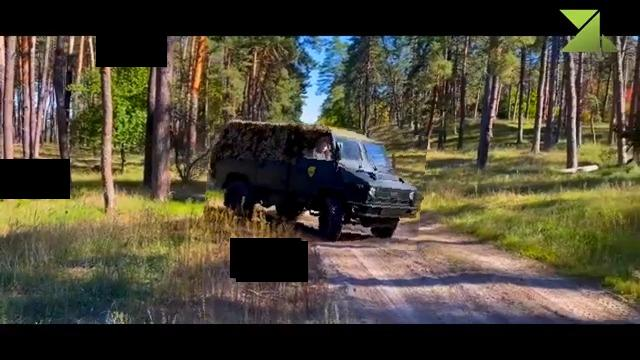MIL_HMMWV: (206, 119, 426, 246)
